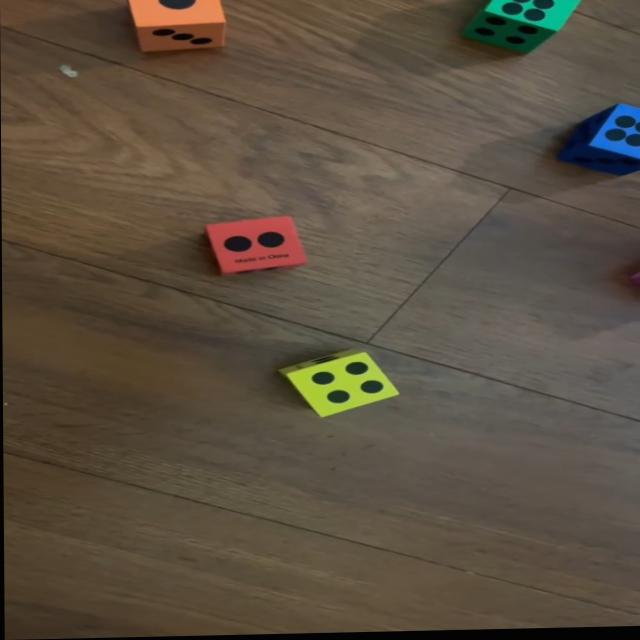blue_block: (559, 107, 640, 178)
red_block: (207, 216, 308, 276)
